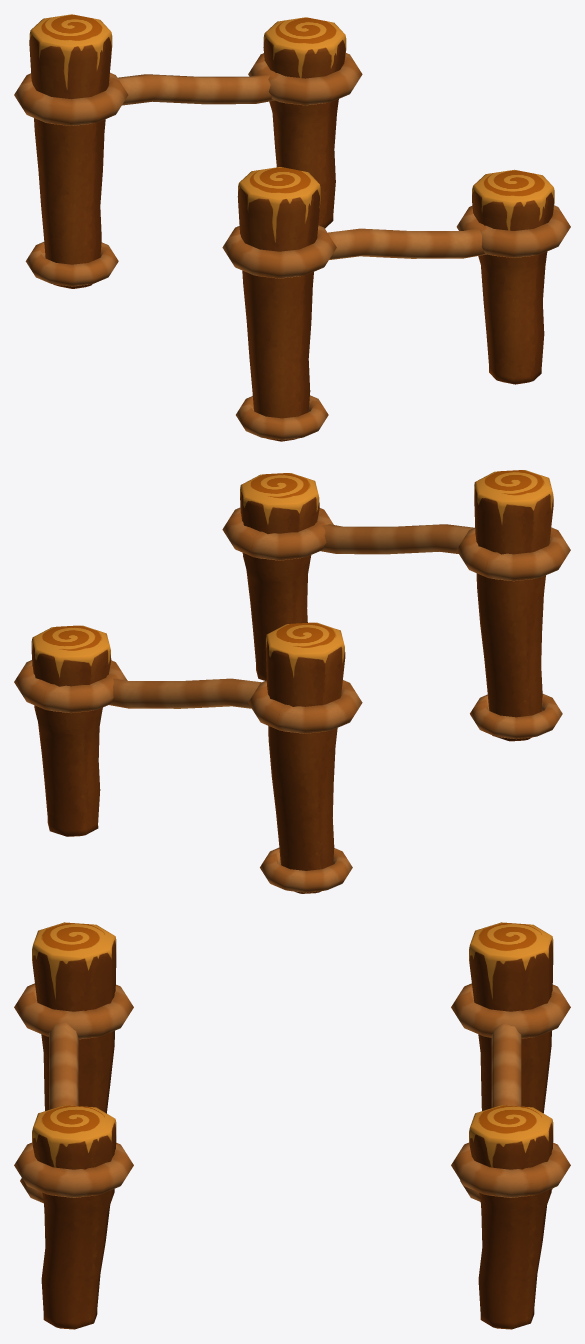
File: bridgemodendupdate.fbx
3 renders of one model, top to bottom at view 1: azimuth 30°, elevation 25°; view 2: azimuth 150°, elevation 25°; view 3: azimuth 270°, elevation 25°, orthographic. The views are drawn at different scales.
Parts seen in each view (by area): view 1: log.004, log.007, log.005, log.006, BezierCurve.006, Torus.015, Torus.001, Torus.005, Torus.004, Torus.006, Torus.007; view 2: log.004, log.007, log.006, log.005, BezierCurve.006, Torus.015, Torus.001, Torus.004, Torus.005, Torus.007, Torus.006; view 3: log.005, log.006, log.004, log.007, BezierCurve.006, Torus.005, Torus.004, Torus.015, Torus.001.
Boxes of the visible parts, <box> form: log.004: <box>29,14,112,288</box>; log.007: <box>237,167,320,441</box>; log.005: <box>472,169,554,384</box>; log.006: <box>263,17,346,228</box>; BezierCurve.006: <box>118,74,486,259</box>; Torus.015: <box>14,72,128,125</box>; Torus.001: <box>222,225,336,278</box>; Torus.005: <box>248,53,362,105</box>; Torus.004: <box>456,205,570,257</box>; Torus.006: <box>236,395,328,440</box>; Torus.007: <box>25,242,118,286</box>; log.004: <box>265,622,345,893</box>; log.007: <box>474,470,553,741</box>; log.006: <box>31,625,111,836</box>; log.005: <box>240,473,319,680</box>; BezierCurve.006: <box>109,524,474,708</box>; Torus.015: <box>248,680,362,733</box>; Torus.001: <box>456,527,570,581</box>; Torus.004: <box>222,507,333,560</box>; Torus.005: <box>14,660,127,713</box>; Torus.007: <box>260,847,352,892</box>; Torus.006: <box>470,694,562,739</box>; log.005: <box>32,1105,116,1329</box>; log.006: <box>469,1105,553,1329</box>; log.004: <box>469,922,553,1113</box>; log.007: <box>32,922,116,1113</box>; BezierCurve.006: <box>49,1022,521,1109</box>; Torus.005: <box>451,1142,570,1197</box>; Torus.004: <box>14,1142,133,1197</box>; Torus.015: <box>451,983,570,1038</box>; Torus.001: <box>14,983,133,1039</box>.
Size of the model in its own units: 563 by 411 by 778.
